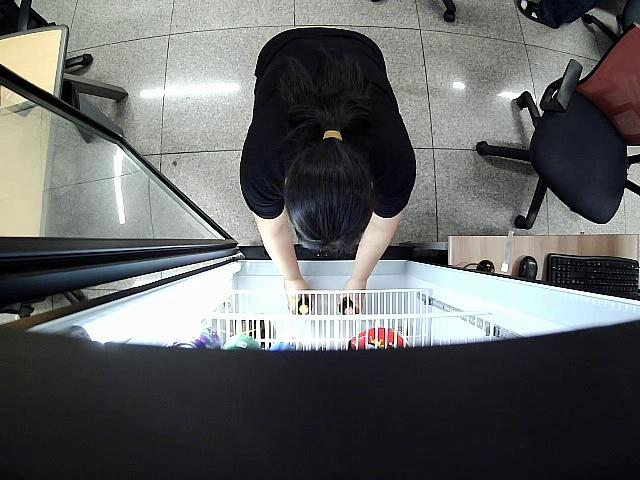00_hand: (285, 277, 314, 315), (340, 279, 367, 313)
17_vita500: (291, 294, 313, 315), (339, 297, 357, 315)
